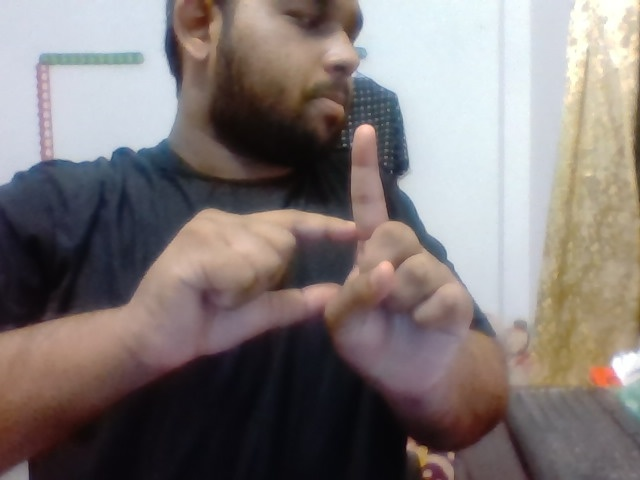D: (175, 97, 478, 386)
